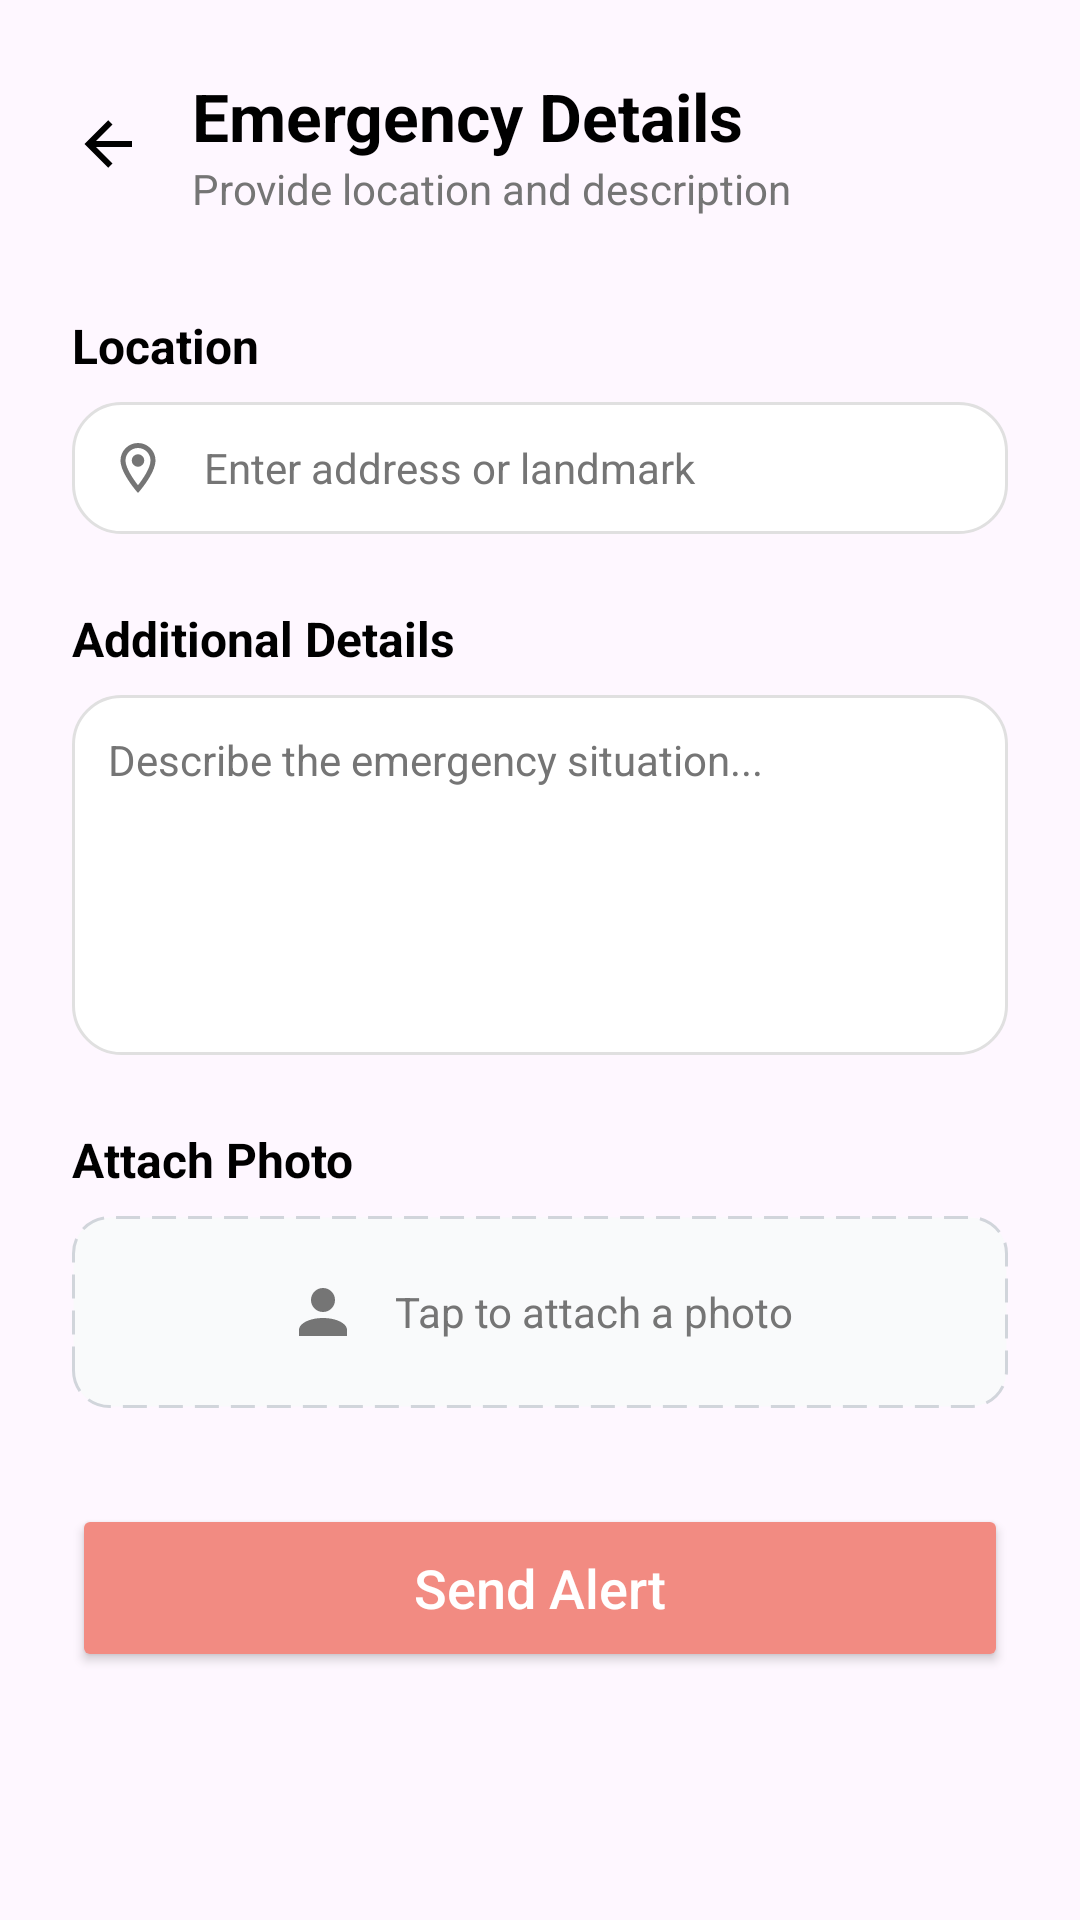

Where to tap for icons on this 1080w x 1920h app screen, as (x=x, y=y):
account: (x=323, y=1312)
back: (x=108, y=144)
